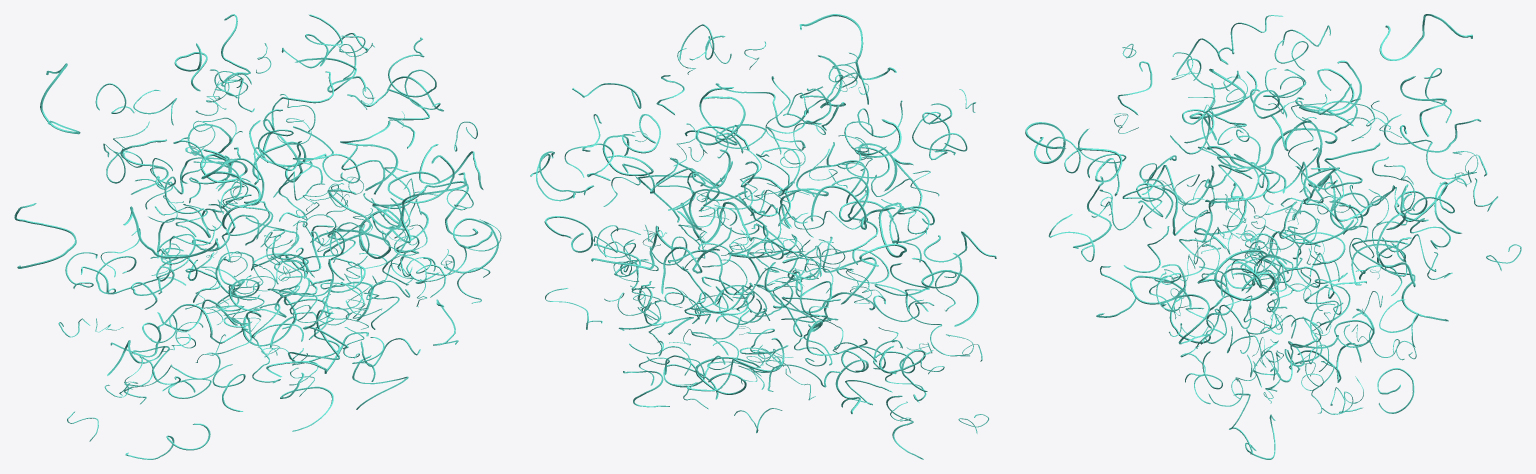
File: ribbbons_DRACO.glb
3 renders of one model, left to right at view 1: azimuth 30°, elevation 25°; view 2: azimuth 150°, elevation 25°; view 3: azimuth 270°, elevation 25°, orthographic. The views are drawn at different scales.
Parts seen in each view (by area): view 1: SPAGHETTI, SPAGHETTI_1; view 2: SPAGHETTI, SPAGHETTI_1; view 3: SPAGHETTI, SPAGHETTI_1.
Part boxes in pixels (x1,y1,x2,y2): SPAGHETTI: (14,14,501,361); SPAGHETTI_1: (58,171,490,459); SPAGHETTI: (530,14,979,391); SPAGHETTI_1: (544,189,996,459); SPAGHETTI: (1025,14,1521,344); SPAGHETTI_1: (1096,147,1436,459).
Size of the model in its own units: 60.12 by 48.22 by 57.9.
